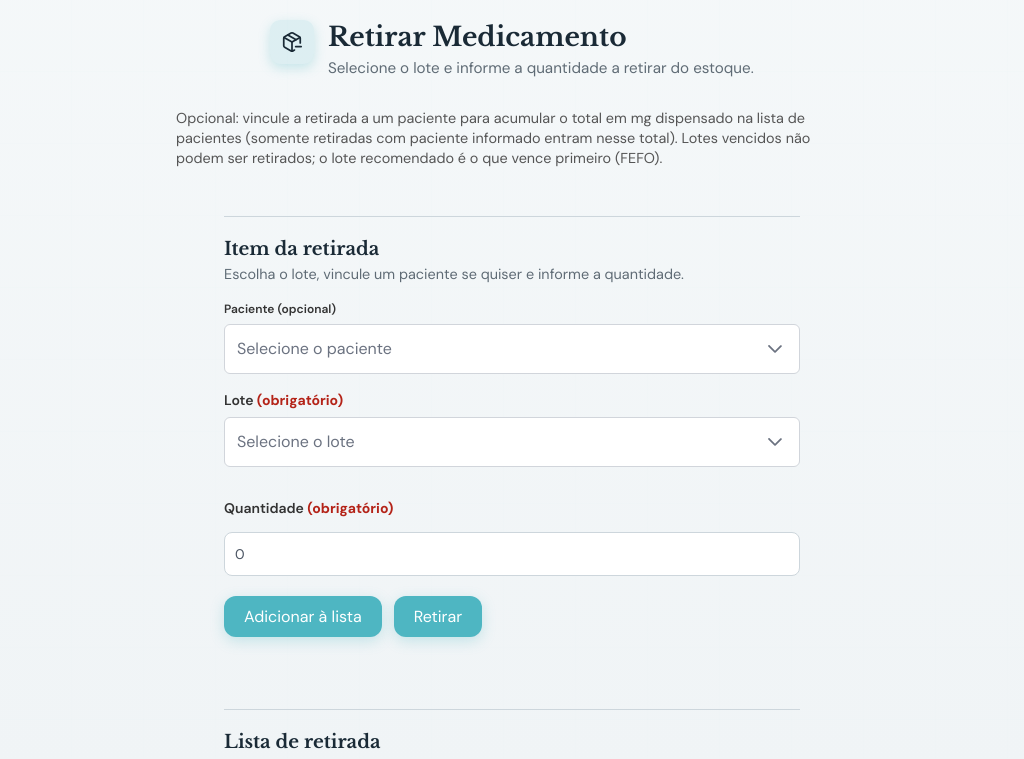
it: RetiraMedication › não adiciona à lista quantidade acima do estoque do lote
Click the text "Selecione o lote" at coordinates (296, 441), box 237,431 -> 355,452
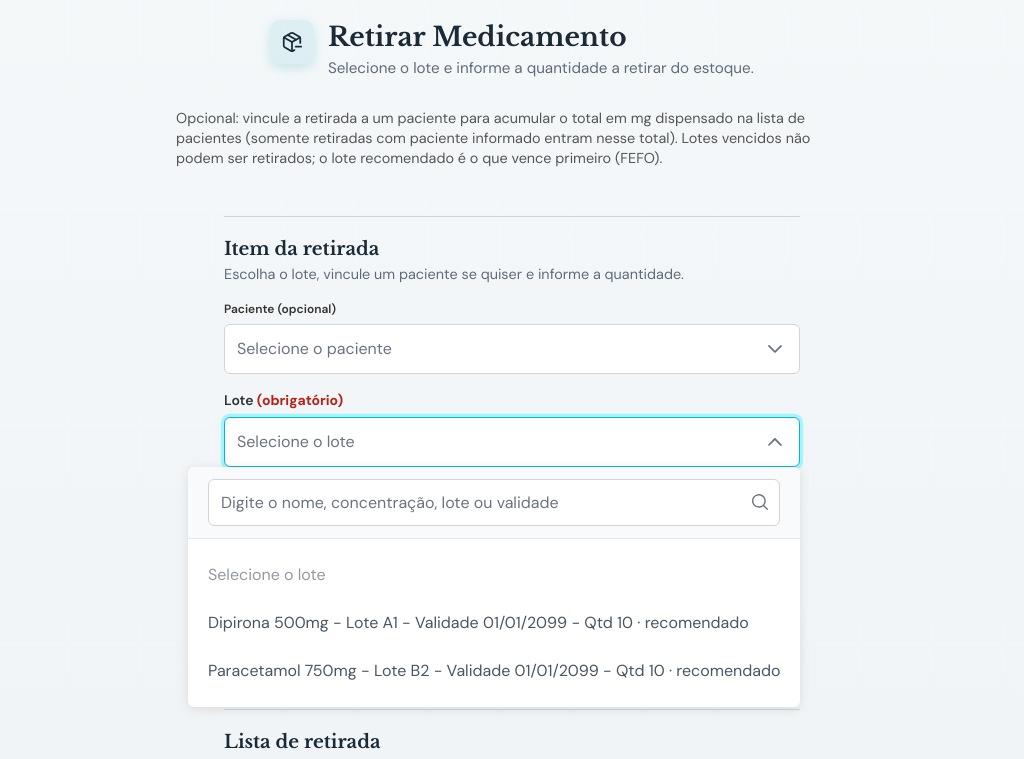
Click the option named "Dipirona 500mg - Lote A1 - Validade 01/01/2099 - Qtd 10 · re" at coordinates (478, 622), box 208,612 -> 749,633
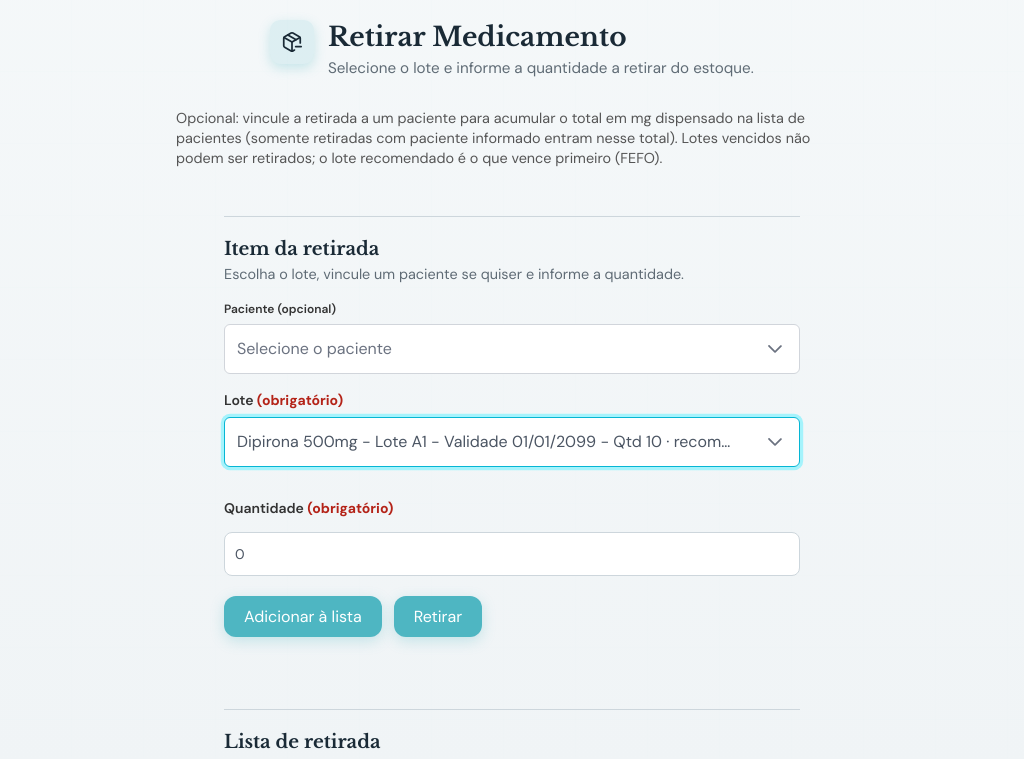
Replace the text in the number field with placeholder "Digite a quantidade à retirar" with "11" at coordinates (512, 554), box 224,532 -> 800,576
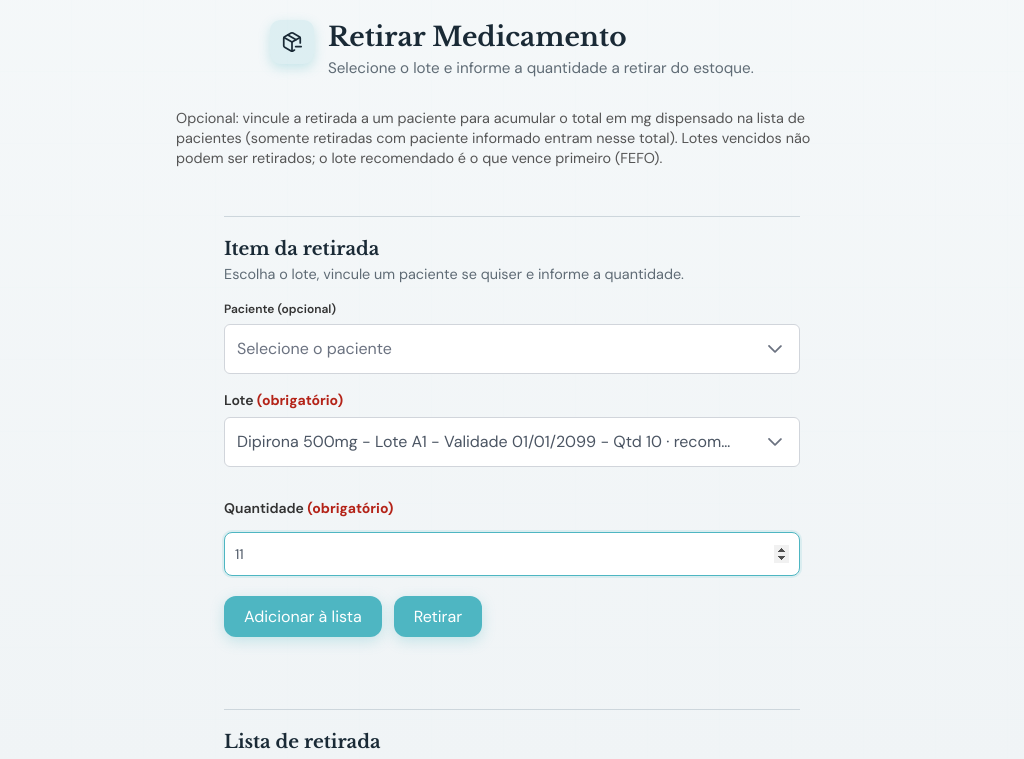
Click the button "Adicionar à lista" at coordinates (303, 617), box 224,596 -> 382,637
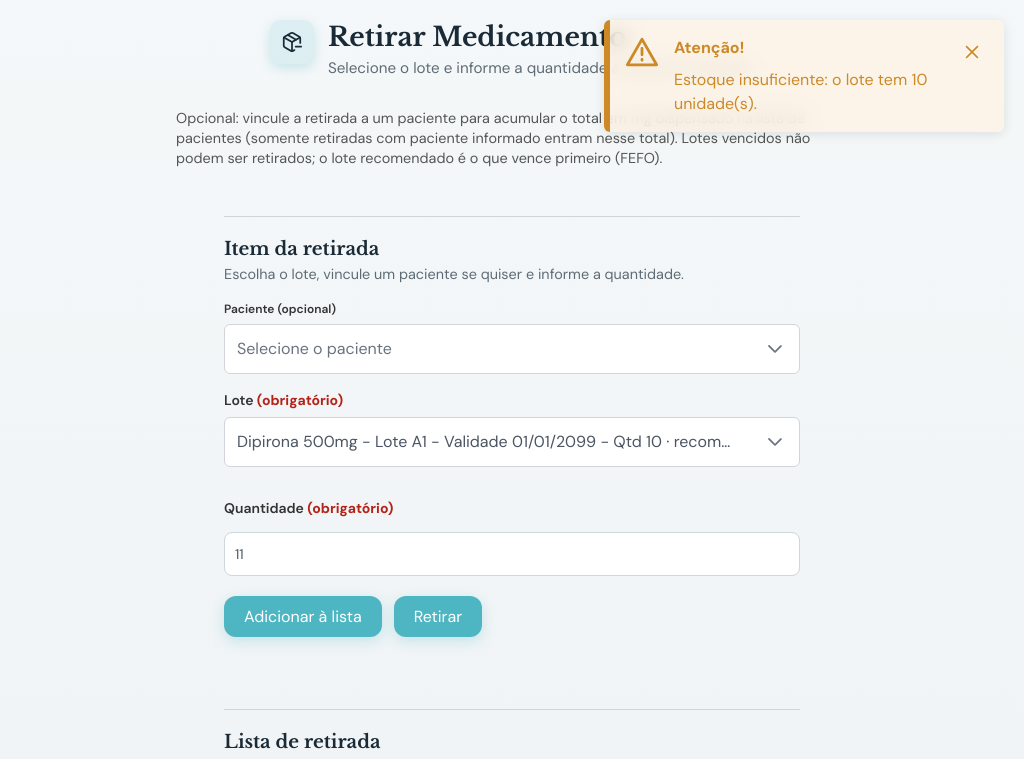
Expected: the text "Estoque insuficiente: o lote tem 10 unidade(s)." is shown, 674,68 -> 956,116
